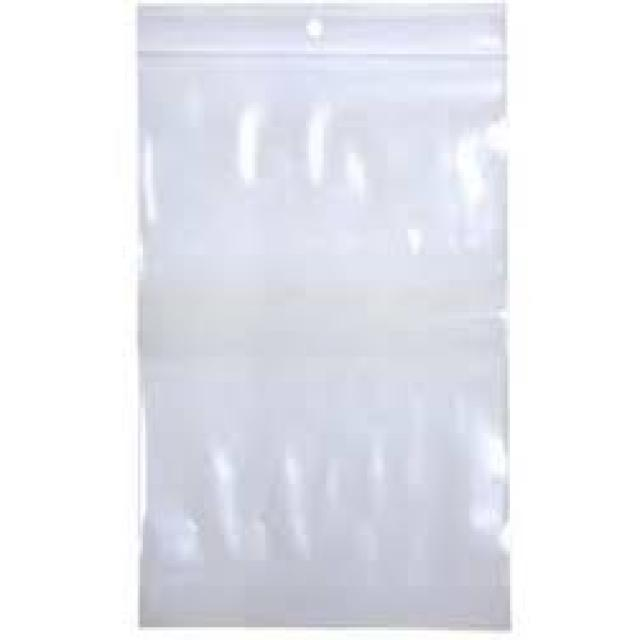plastic: (132, 0, 507, 627)
